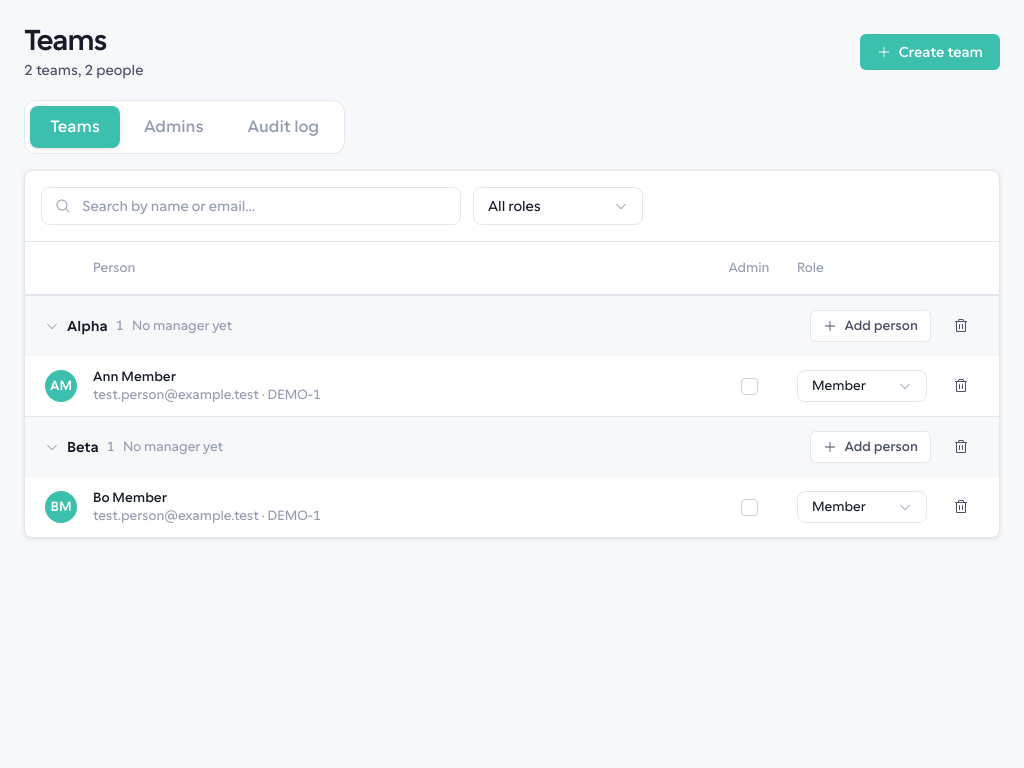
TeamsView › a render error in the Audit log tab shows its fallback; the heading and the other tabs still work
Step 1. Click the tab "Audit log" → (283, 127), box [228, 106, 339, 148]
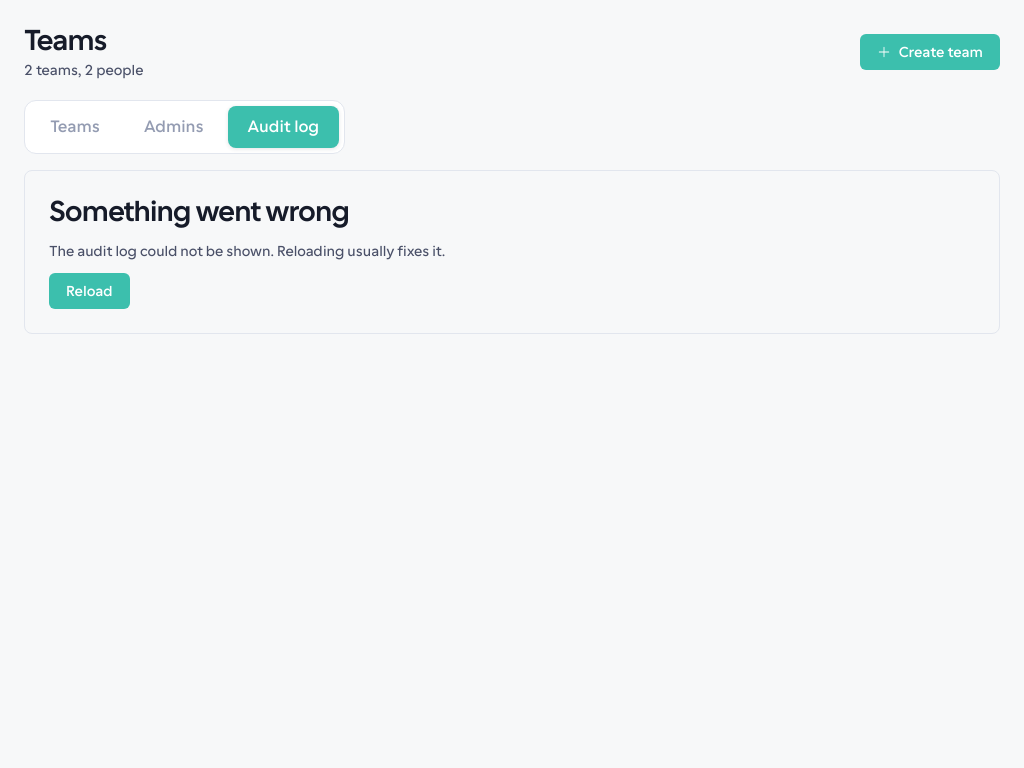
Expected: the heading "Teams" is shown, [24, 25, 107, 57]
Now the text "The audit log could not be shown. Reloading usually fixes it." is shown, box [49, 241, 445, 261]
Step 2. Click the tab "Admins" → (174, 127), box [124, 106, 224, 148]
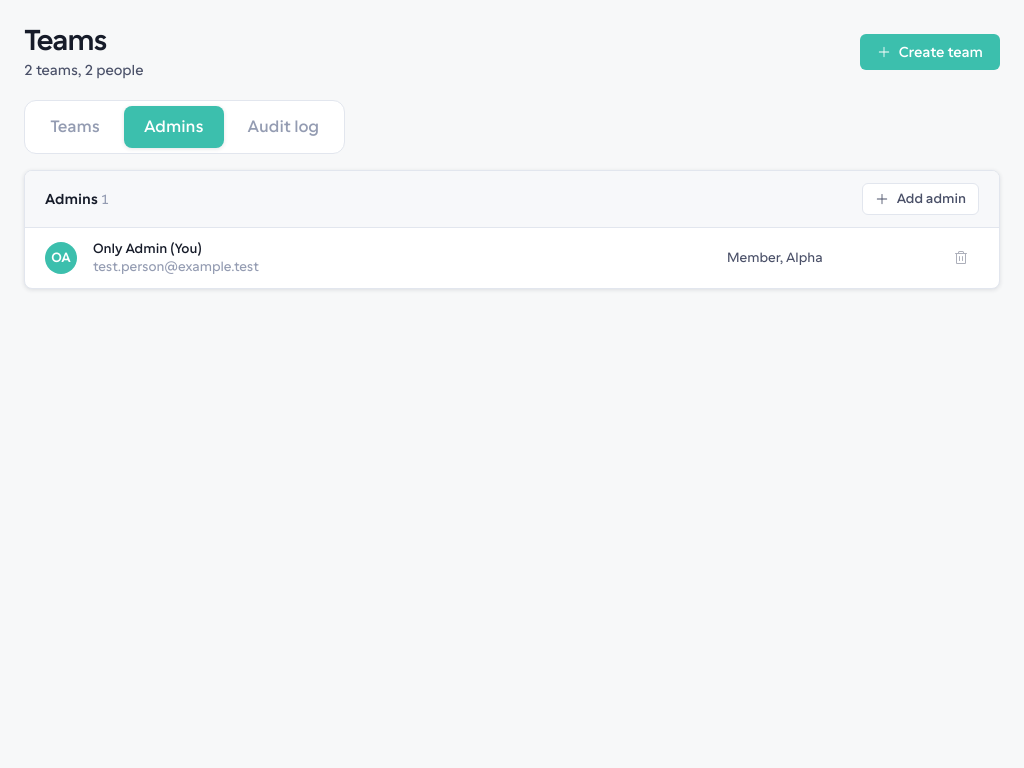
Now the text "Only Admin (You)" is shown, box [93, 241, 202, 256]
Step 3. Click the tab "Teams" → (75, 127), box [30, 106, 120, 148]
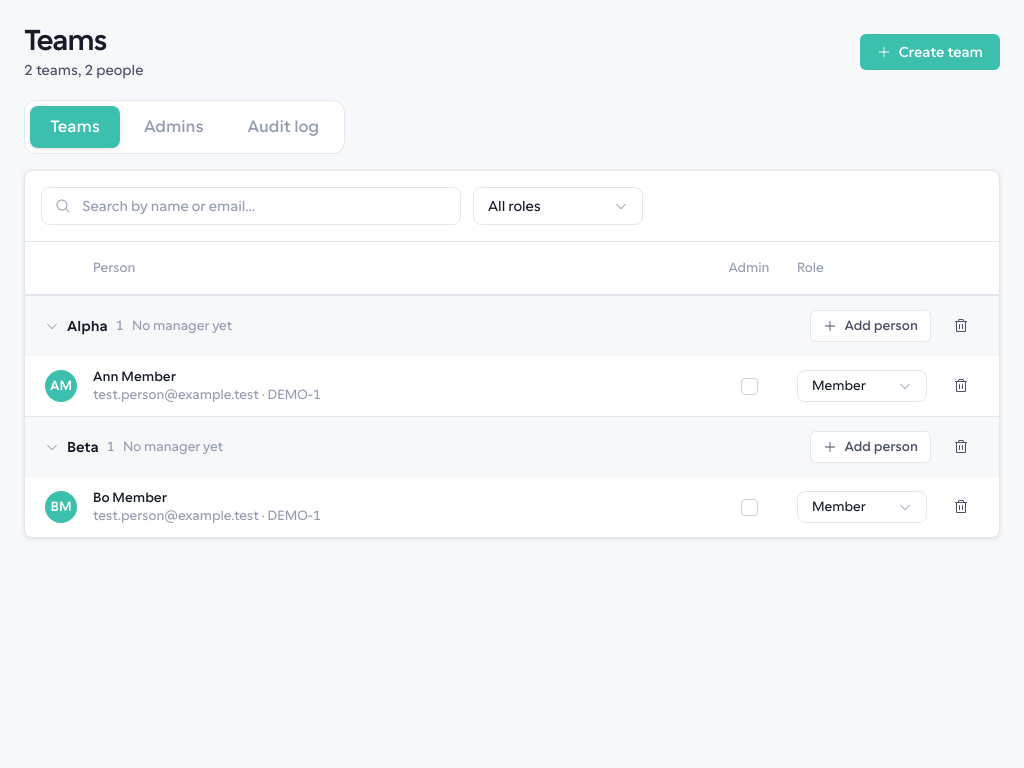
Now the element "Alpha" is shown, box [25, 295, 999, 416]
